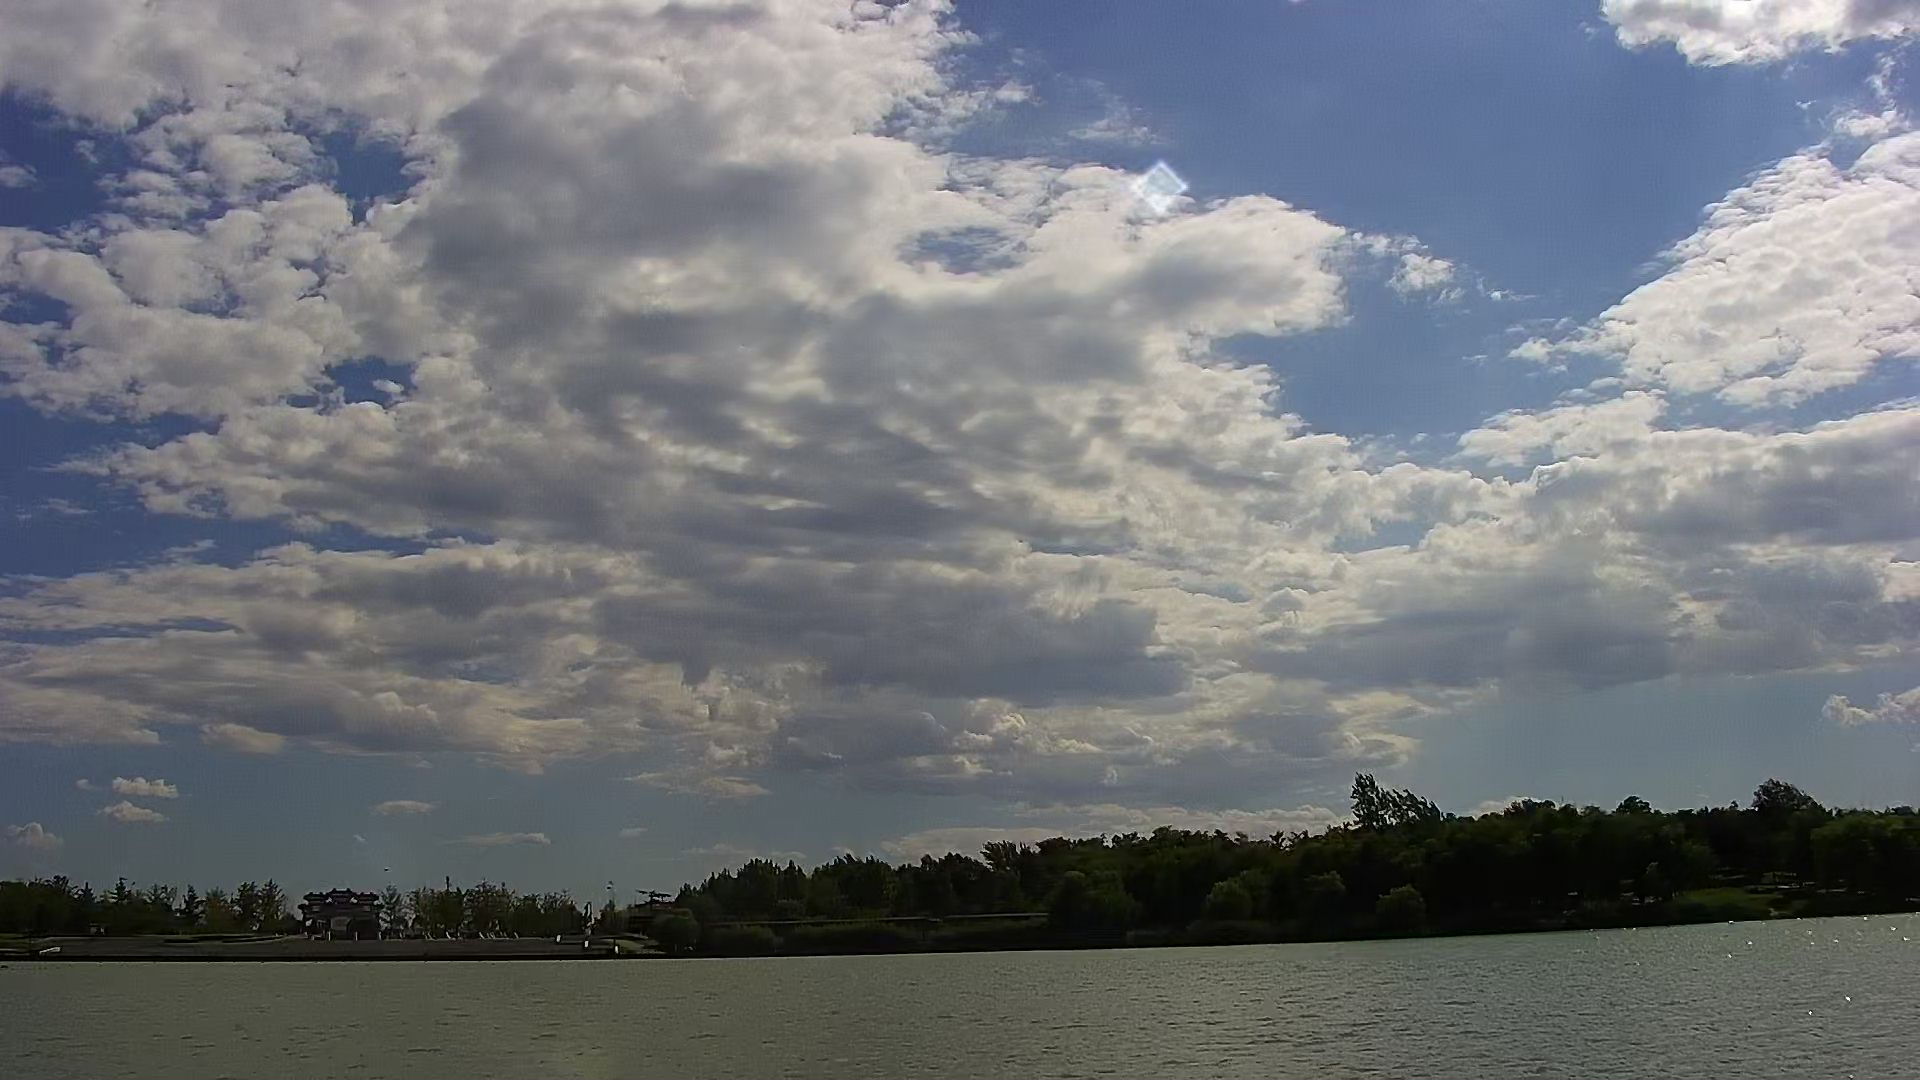harbor: (76, 928, 680, 967)
